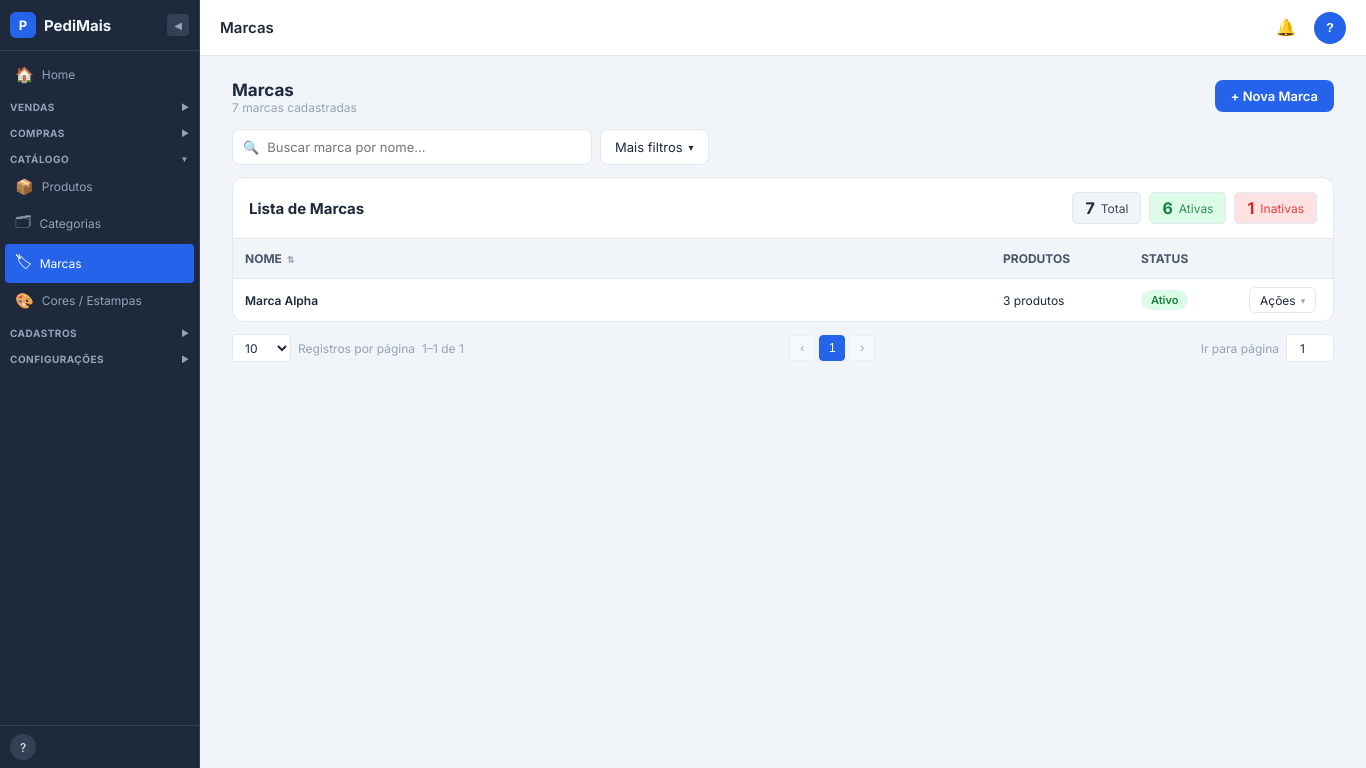
it: BrandsListView › shows the backend message when deletion is blocked because the brand is in use
The width and height of the screenshot is (1366, 768).
Click the element with test id "btn-acoes" at {"x": 1283, "y": 300}, box [1249,287,1316,313]
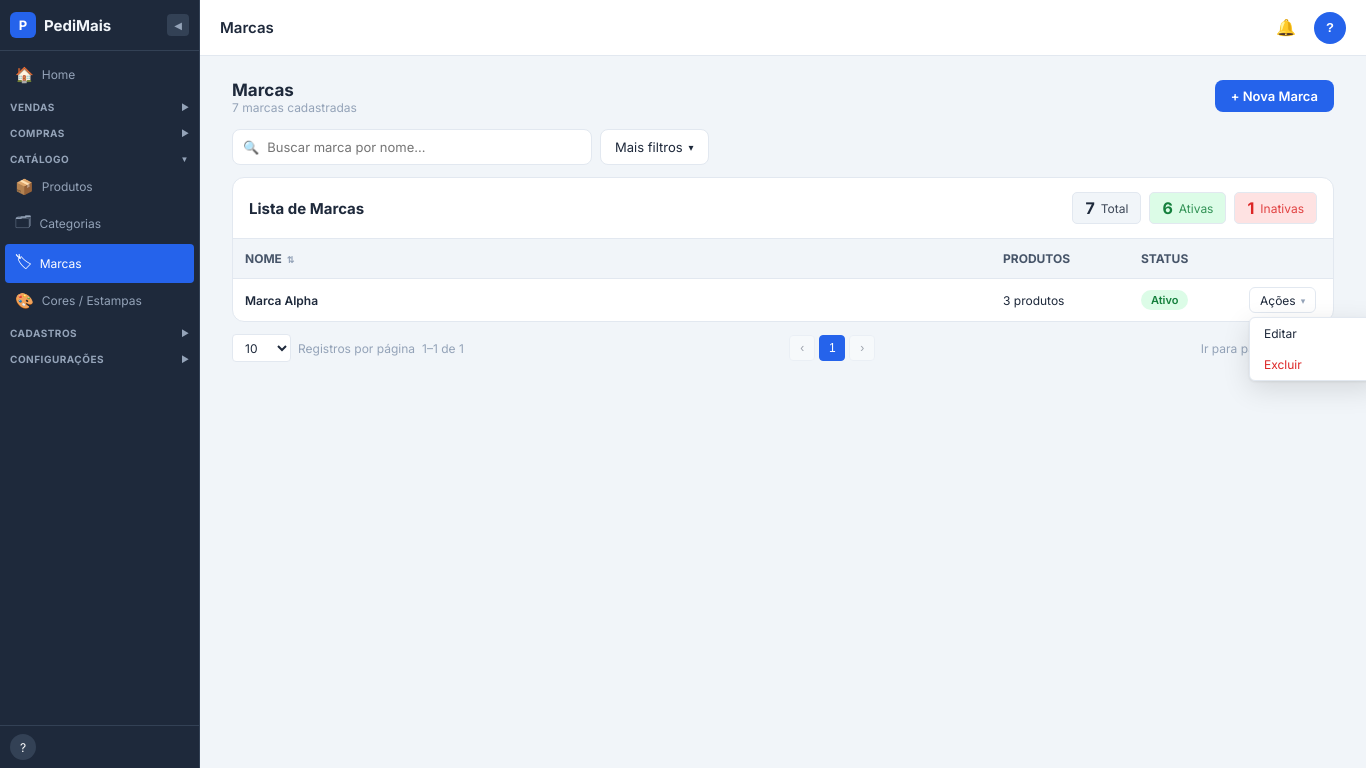
Click the text with test id "acao-excluir" at {"x": 1283, "y": 364}, box [1264,357,1302,372]
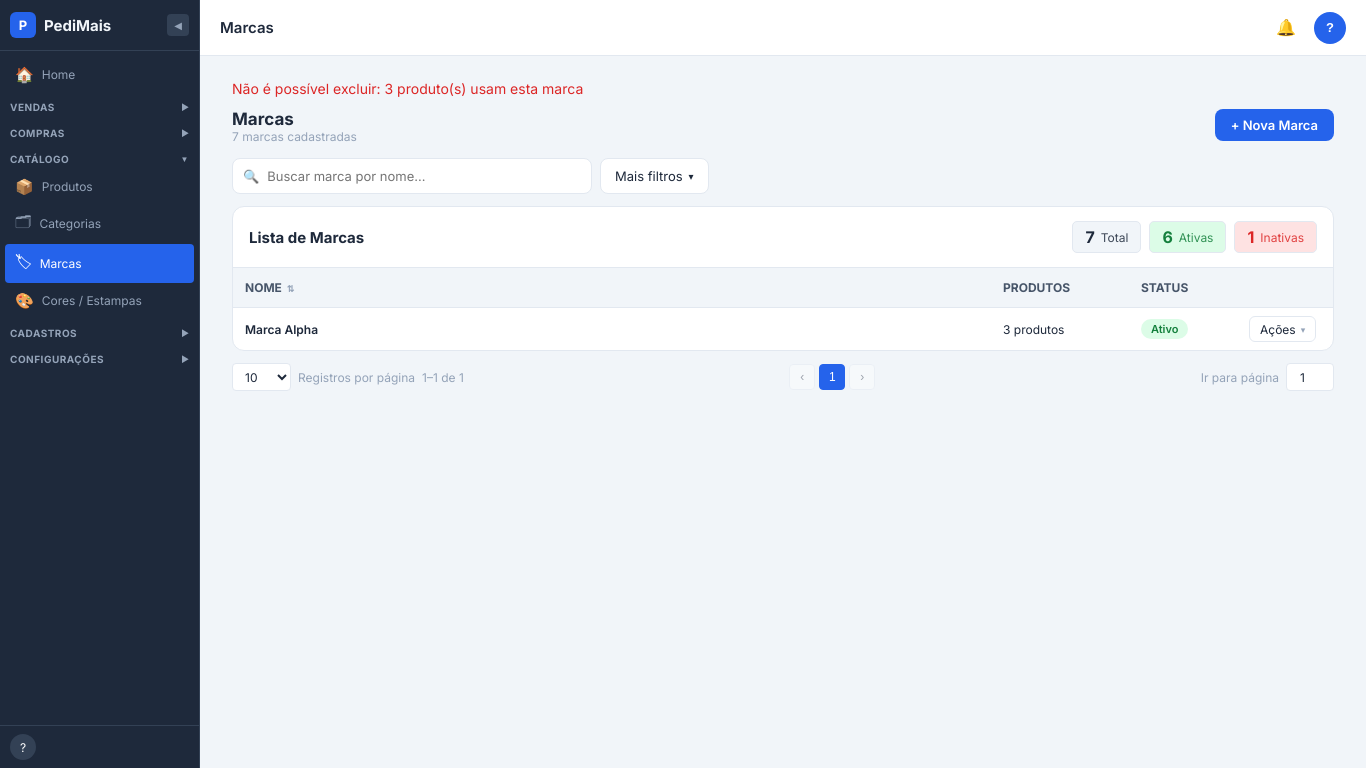
Expected: the text "Não é possível excluir: 3 produto(s) usam esta marca" is shown, [232,80,583,97]
